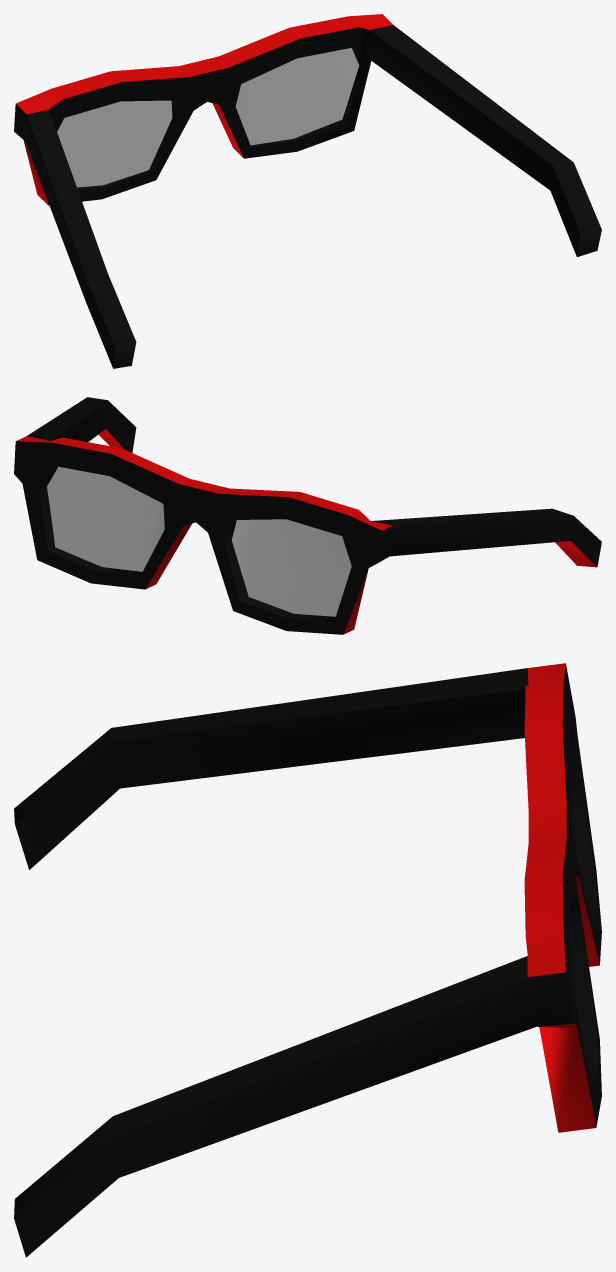
The model's file is hat_gamerglasses.glb.
3 renders of one model, top to bottom at view 1: azimuth 30°, elevation 25°; view 2: azimuth 150°, elevation 25°; view 3: azimuth 270°, elevation 25°, orthographic. The views are drawn at different scales.
Parts seen in each view (by area): view 1: hat_gamerglasses; view 2: hat_gamerglasses; view 3: hat_gamerglasses.
Boxes of the visible parts, <box> form: hat_gamerglasses: <box>14,14,601,368</box>; hat_gamerglasses: <box>14,397,601,634</box>; hat_gamerglasses: <box>14,663,601,1257</box>.
Size of the model in its own units: 0.4865 by 0.1425 by 0.2949.
